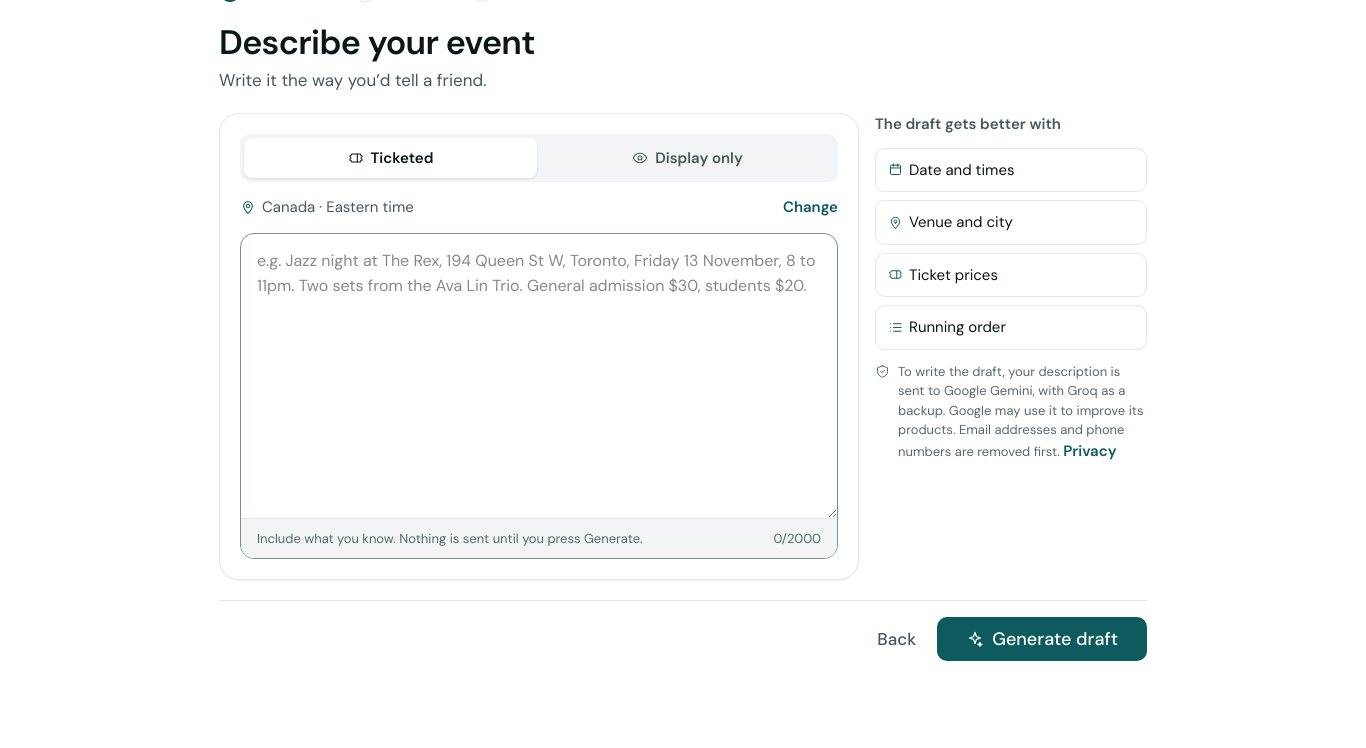
it: review and save › the draft is shown as the event page, with only the two problems flagged
The width and height of the screenshot is (1366, 748).
Replace the text in the text box named "About your event" with "Diwali Gala Dinner 2026, Saturday November 7 from 6:30pm at the Palais Royale, Toronto. General $95.". click: (539, 376)
box: [241,234,837,518]
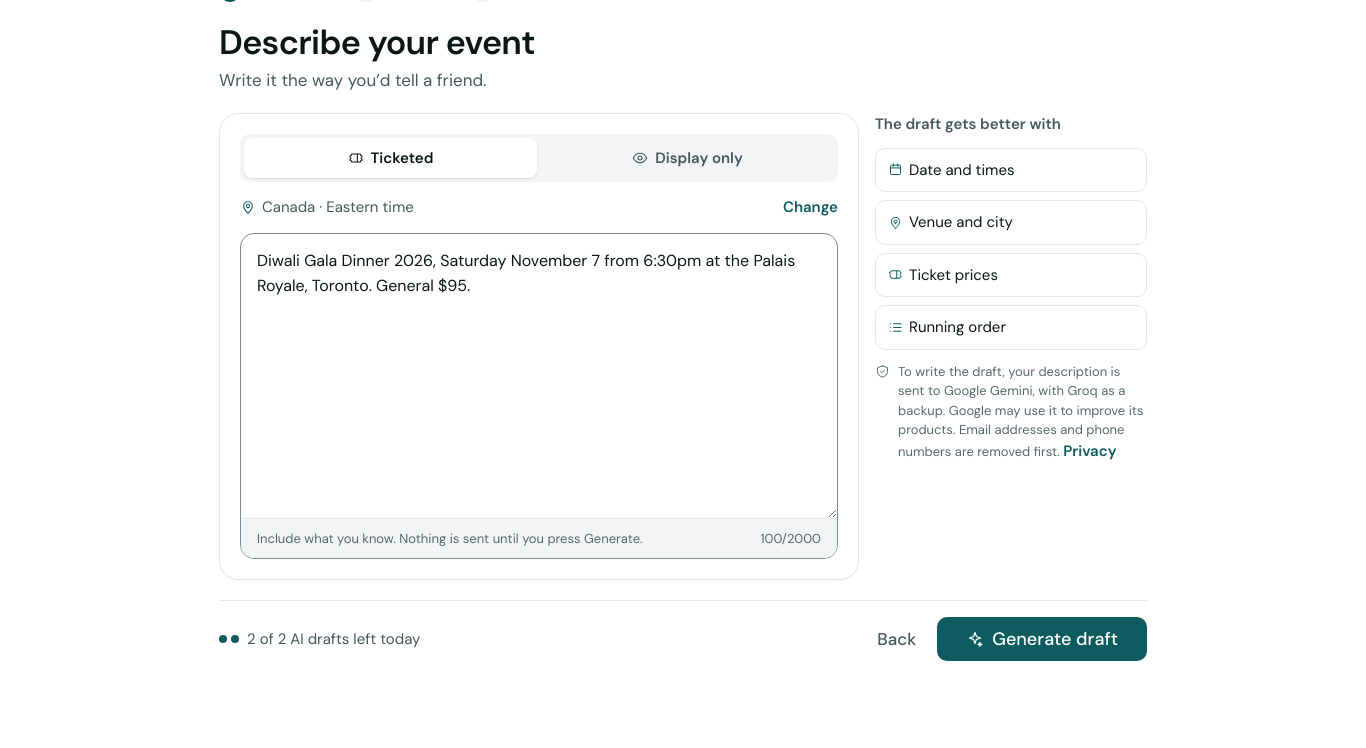
Click the button "Generate draft". click: (1042, 639)
box: [937,617,1147,661]
(page scrolled)
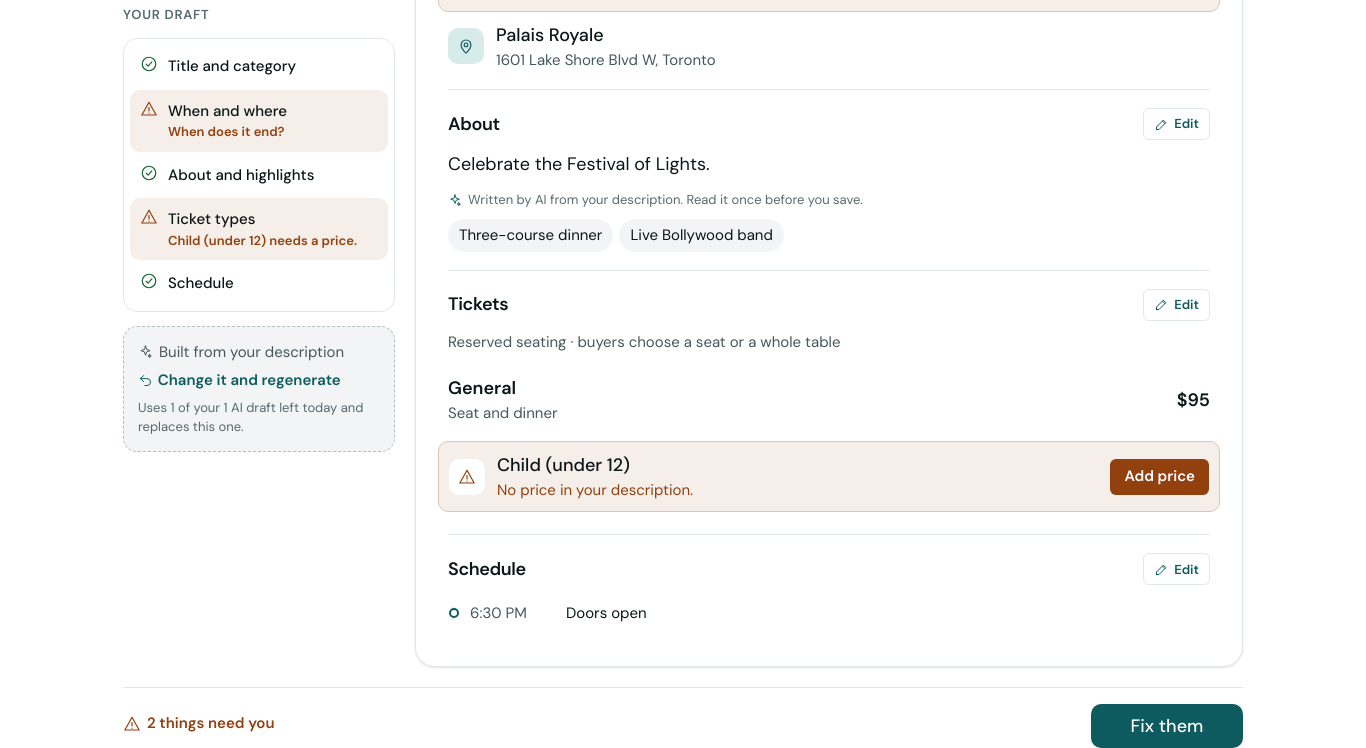
Check: the text "2 things need you" is shown, box [123,712,274,735]
Check: the text "No price in your description." is shown, box [497,480,693,500]
Check: the text "$95" is shown, box [1177,386,1210,414]
